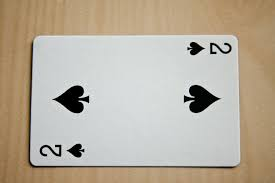two of spades: (28, 33, 243, 168)
